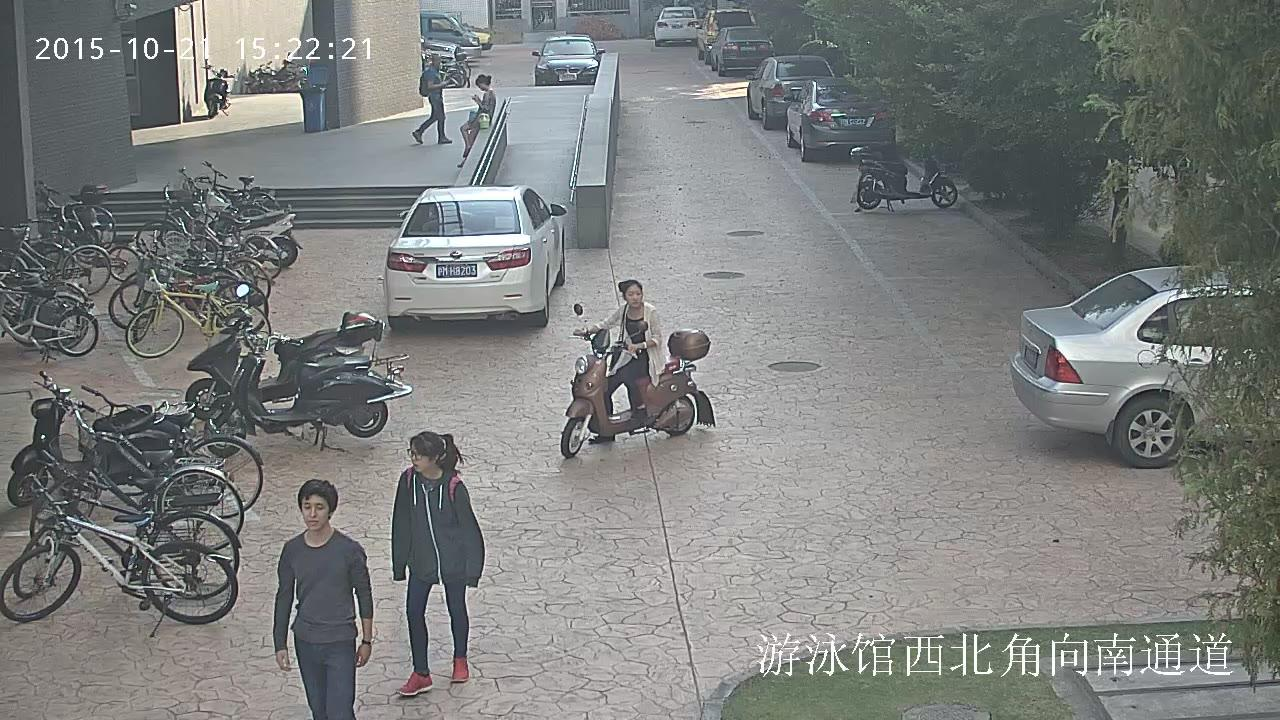person: (559, 279, 716, 458), (390, 431, 484, 697), (272, 478, 372, 720), (572, 279, 669, 443), (409, 53, 457, 144), (455, 73, 496, 167)
